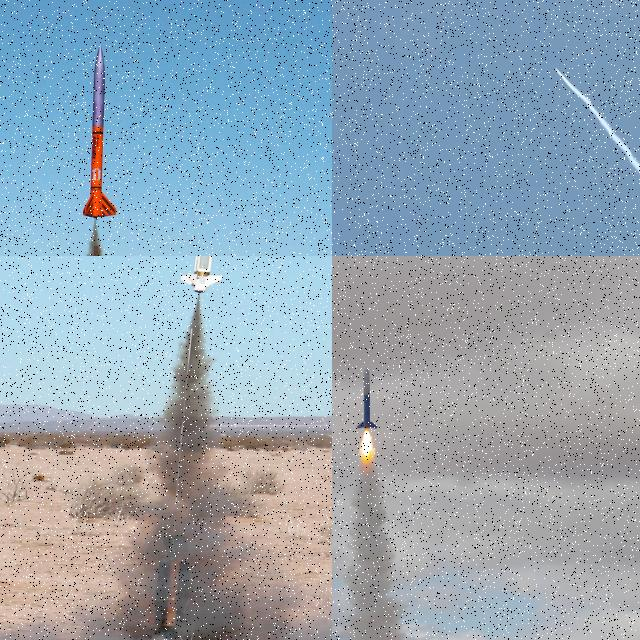Rocket: (81, 45, 118, 219), (179, 256, 224, 295), (356, 371, 378, 429), (555, 67, 556, 70)
